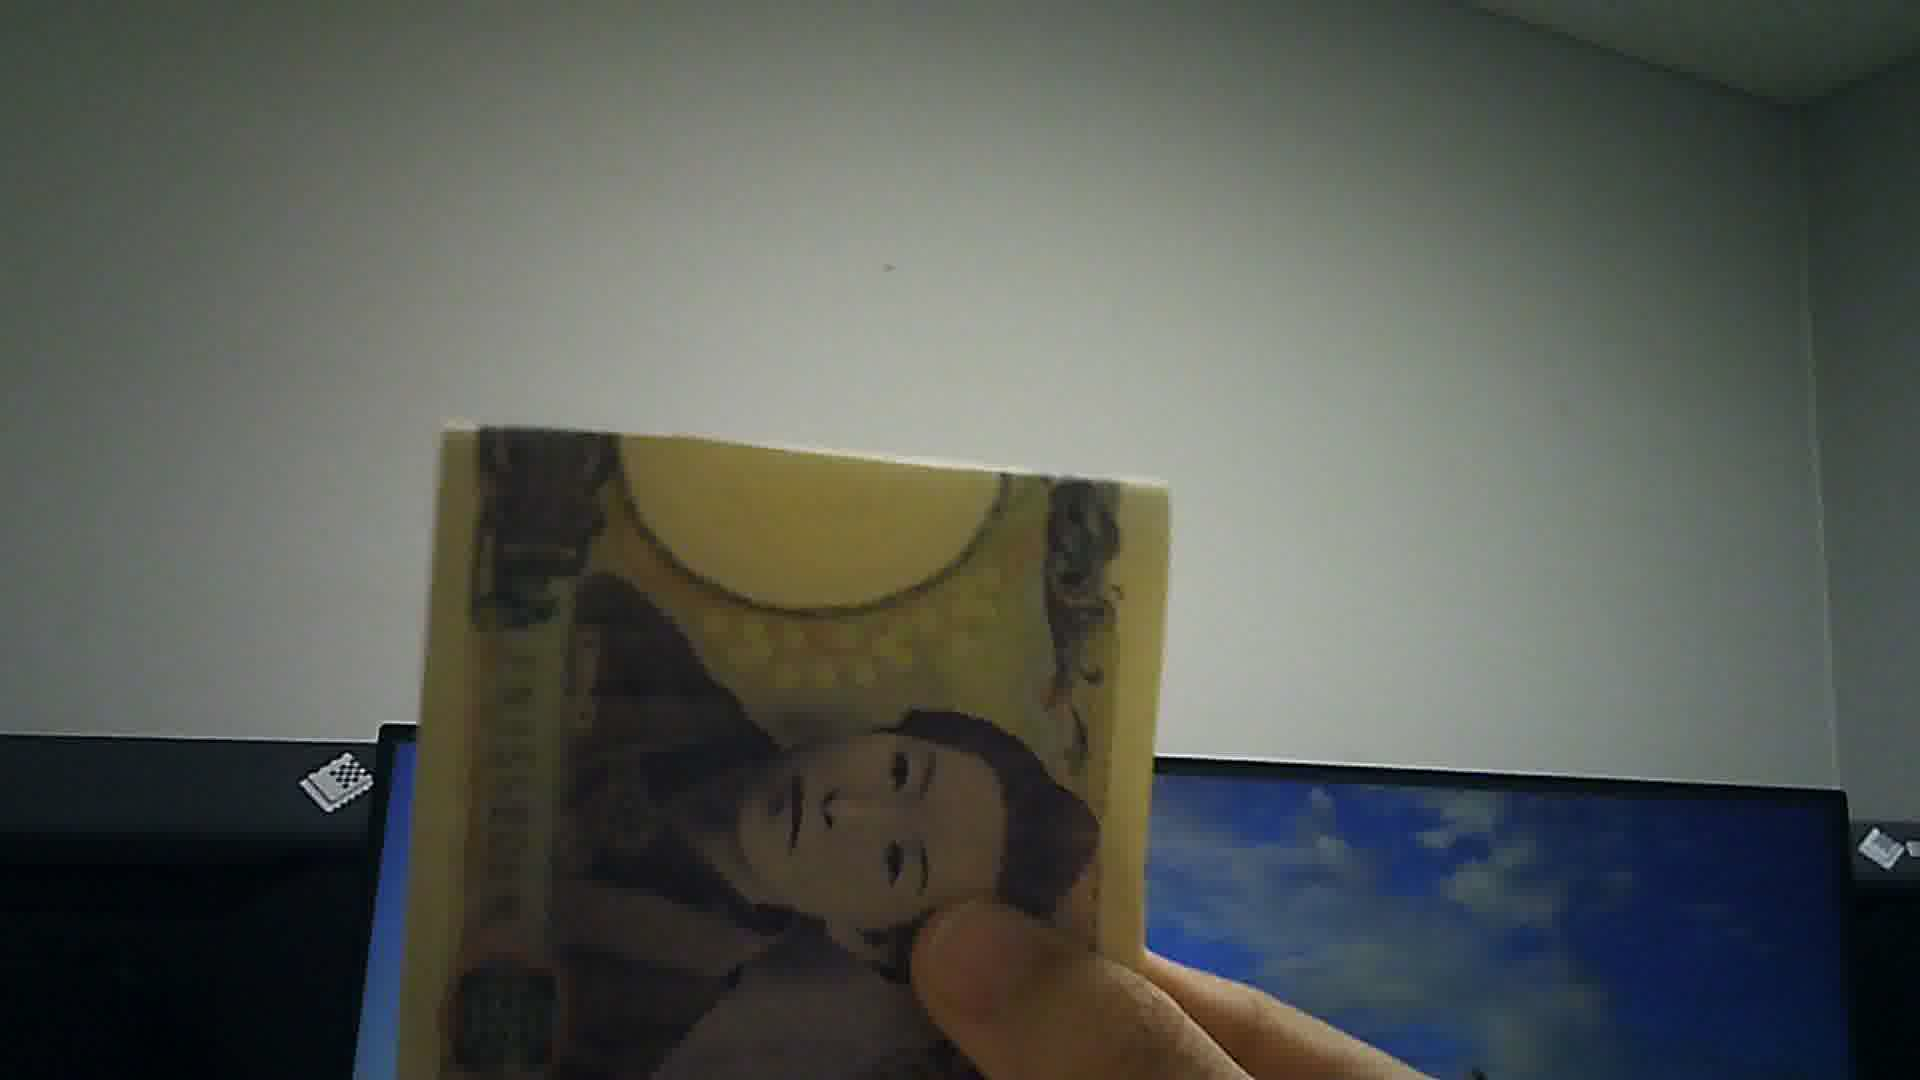5,000 Yen: (400, 402, 1153, 1065)
